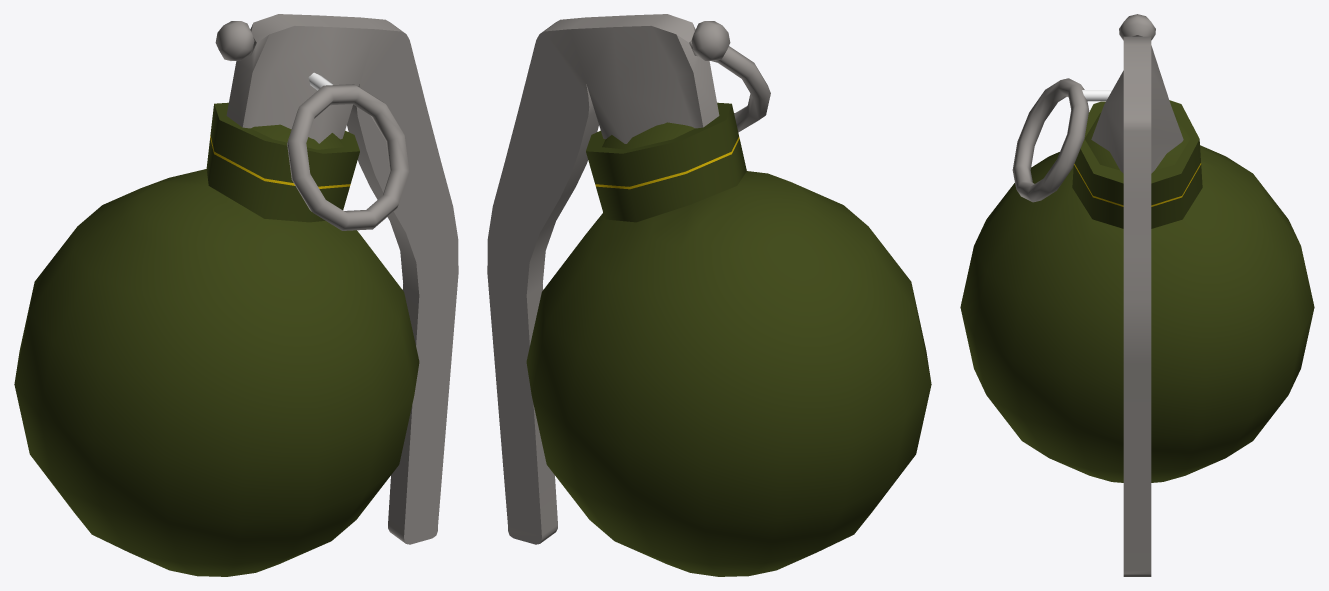
File: Grenade.fbx
3 renders of one model, left to right at view 1: azimuth 30°, elevation 25°; view 2: azimuth 150°, elevation 25°; view 3: azimuth 270°, elevation 25°, orthographic. The views are drawn at different scales.
Visible parts, largest first — view 1: Cube.001; view 2: Cube.001; view 3: Cube.001.
Boxes of the visible parts, x1=… form: Cube.001: x1=14, y1=14, x2=458, y2=576; Cube.001: x1=487, y1=14, x2=931, y2=576; Cube.001: x1=960, y1=14, x2=1314, y2=576.
Size of the model in its own units: 264 by 343 by 228.
